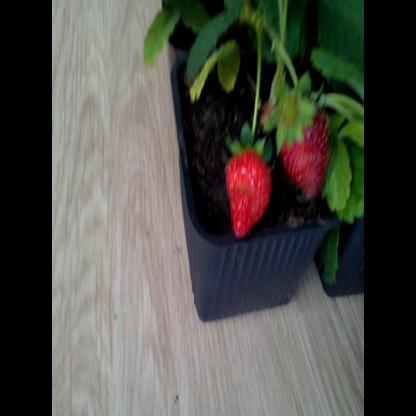ripe: (278, 85, 341, 204), (225, 140, 276, 240)
